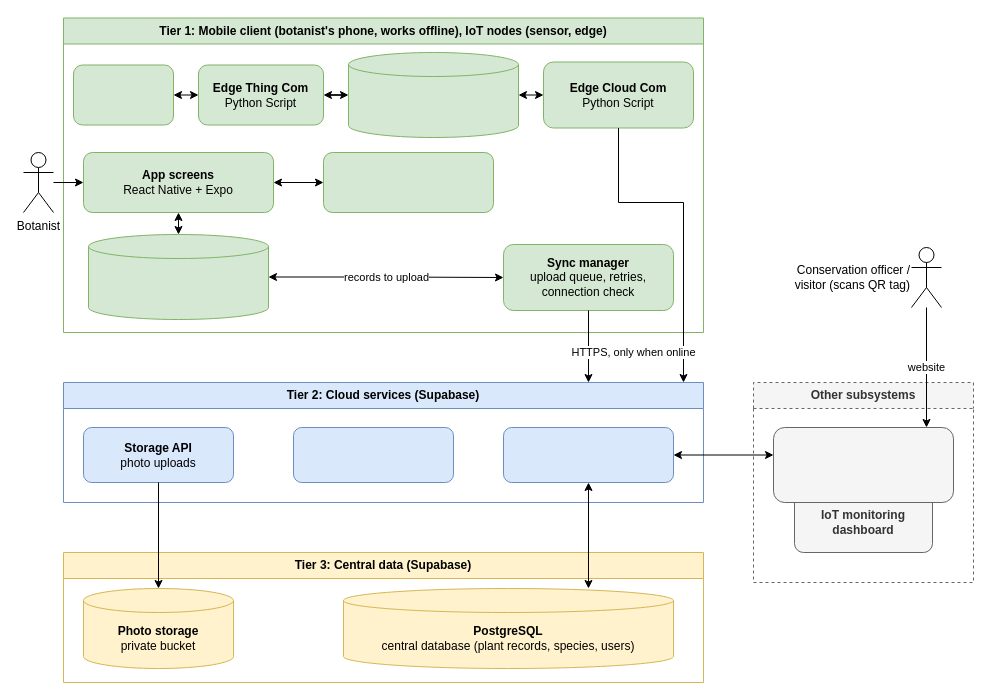
Image size: 991x700. Some labels were removed from this diagram. Each missing label, with the centre of its shape:
"Device features camera, GPS, QR generator" belongs at point (408, 182).
"Local database SQLite" belongs at point (178, 277).
"Local Edge Database SQLite" belongs at point (433, 95).
"REST API Row Level Security" belongs at point (588, 454).
"Sensor node ESP32" belongs at point (123, 94).
"Supabase Auth login, tokens, roles" belongs at point (373, 454).
"Web platform React on Vercel (Digital Plant Knowledge System)" belongs at point (863, 464).
